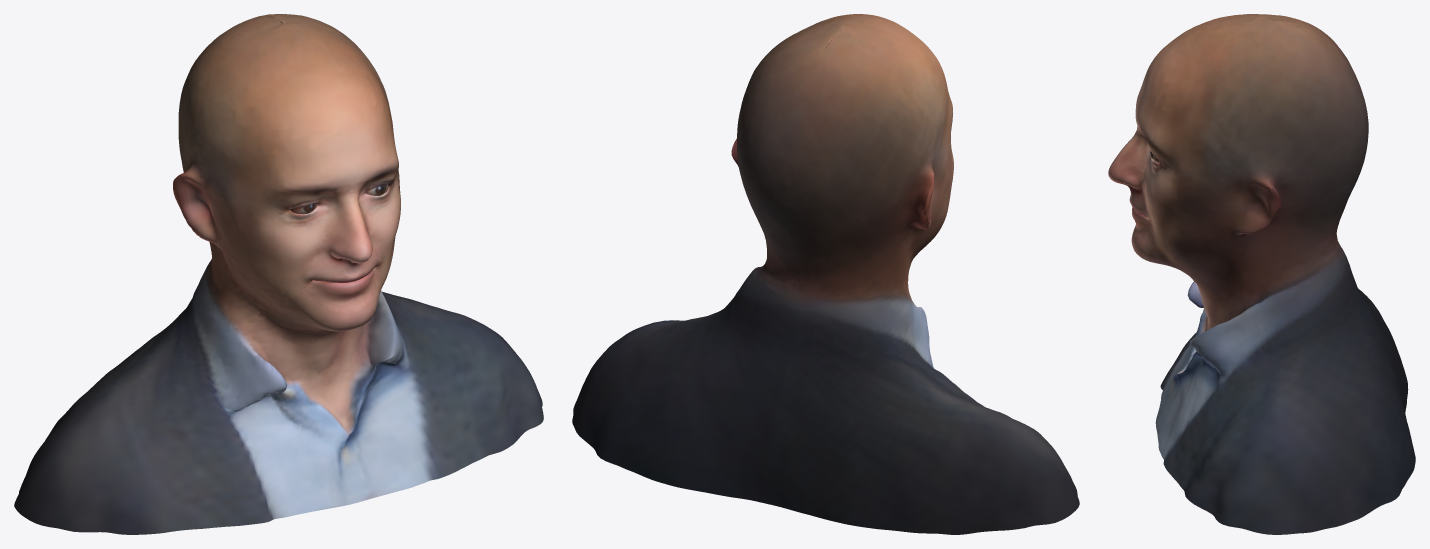
Rendered from bezos.gltf.
3 views of the same model, side by side, from view 1: azimuth 30°, elevation 25°; view 2: azimuth 150°, elevation 25°; view 3: azimuth 270°, elevation 25° (orthographic). The views are drawn at different scales.
Visible parts, largest first — view 1: JeffBezos; view 2: JeffBezos; view 3: JeffBezos.
Boxes of the visible parts, x1=… form: JeffBezos: x1=14, y1=14, x2=543, y2=534; JeffBezos: x1=572, y1=14, x2=1079, y2=534; JeffBezos: x1=1108, y1=14, x2=1415, y2=534.
Bounding box in the file's own units: 0.458 × 0.378 × 0.2627.
1 material, 1 textured.
